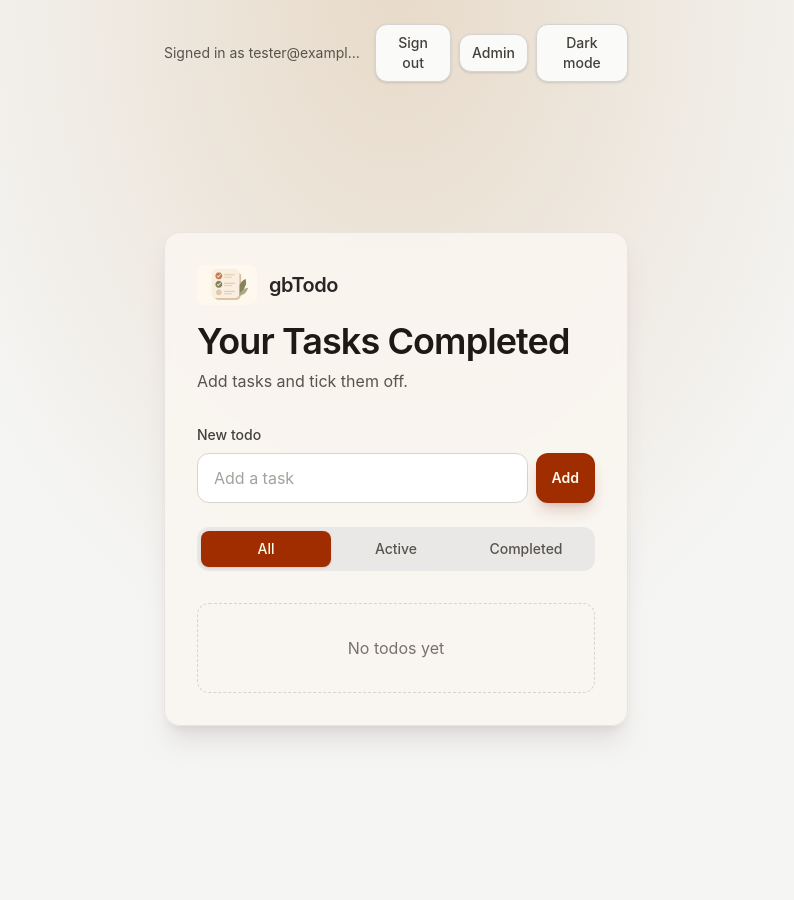
Scenario: admin panel › refetches profiles each time the Admin panel is opened
This screenshot has width=794, height=900.
Expected: the field labelled "New todo" is shown, [197,453,528,503]
Click the button "Admin". click: (493,53)
box: [459,34,528,72]
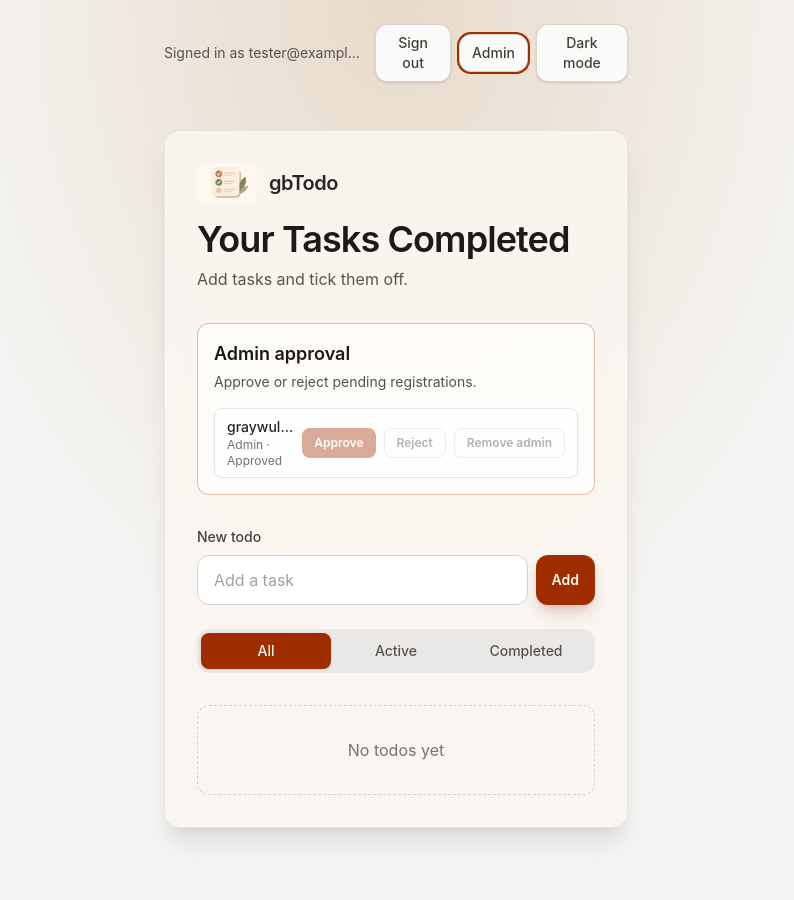
Expected: the element with test id "admin-panel" is shown, [197,323,595,495]
Expected: the list item with test id "admin-profile-user-1" is shown, [214,408,578,478]
Click the button "Admin". click: (493,53)
box: [459,34,528,72]
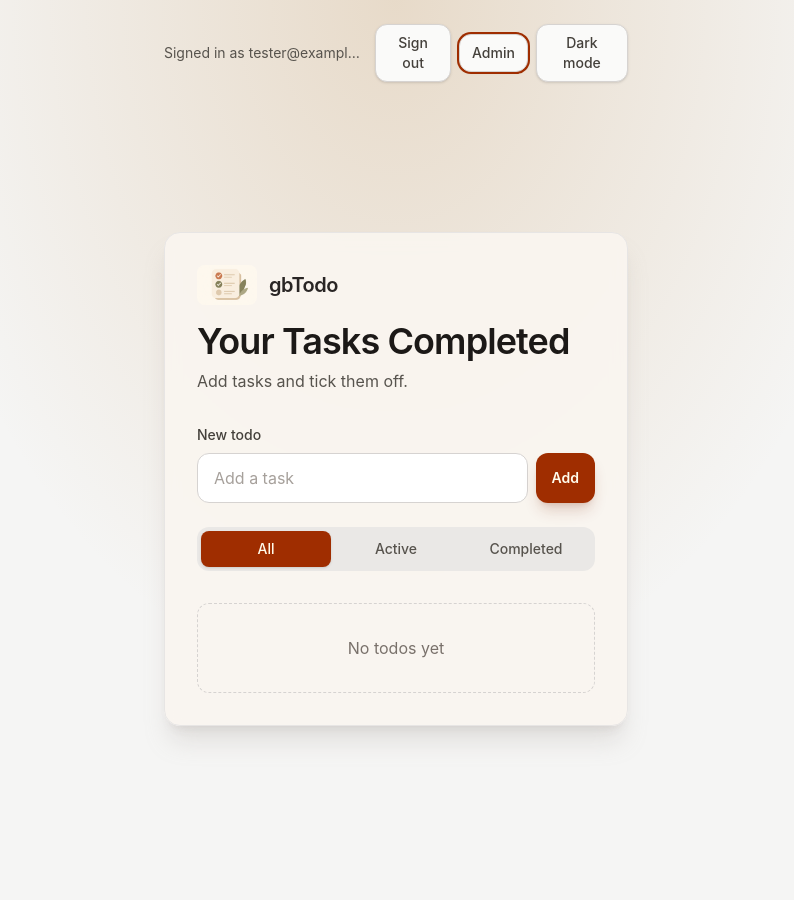
Expected: the element with test id "admin-panel" is gone
Click the button "Admin". click: (493,53)
box: [459,34,528,72]
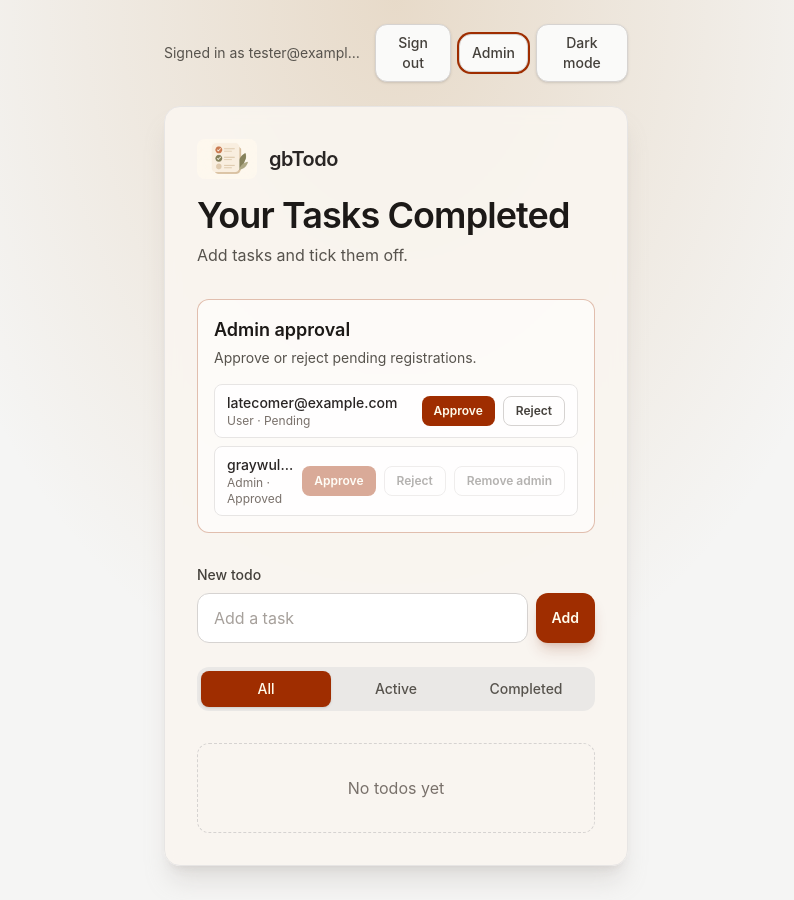
Expected: the element with test id "admin-panel" is shown, [197,299,595,533]
Expected: the text "latecomer@example.com" is shown, [227,393,414,413]
